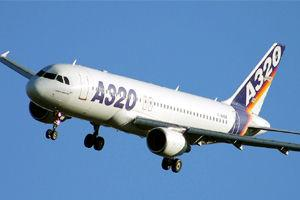airplane: (1, 42, 300, 169)
